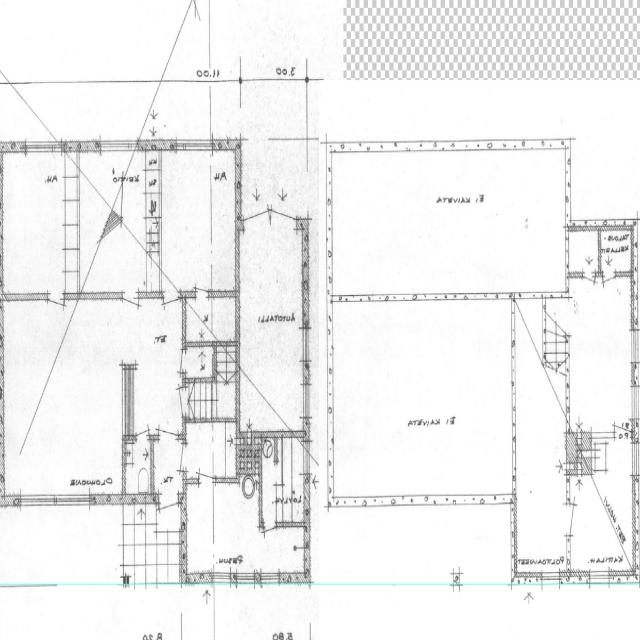door: (270, 170, 298, 230), (243, 170, 270, 230), (158, 495, 178, 542), (158, 400, 178, 440), (567, 502, 588, 536), (614, 400, 631, 438), (163, 291, 180, 328), (198, 447, 215, 483), (122, 291, 138, 328), (48, 291, 64, 326), (168, 386, 187, 414), (168, 444, 186, 471), (262, 522, 276, 553), (602, 271, 616, 301), (582, 271, 595, 302), (195, 266, 208, 297), (170, 350, 187, 372), (137, 412, 149, 440)
